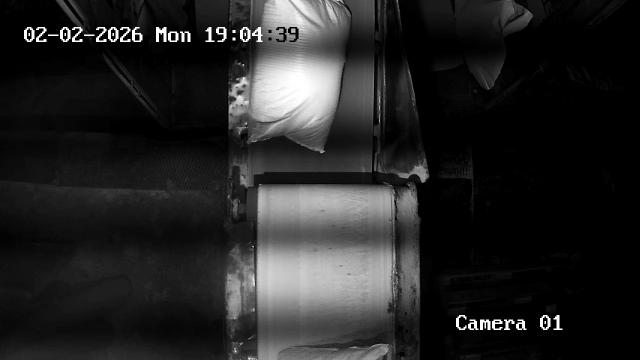bag: (249, 0, 352, 154)
